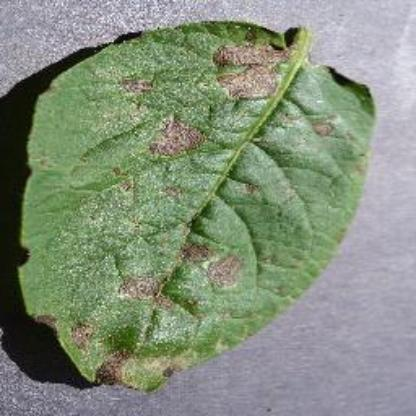Early-Blight: (13, 23, 374, 393)
